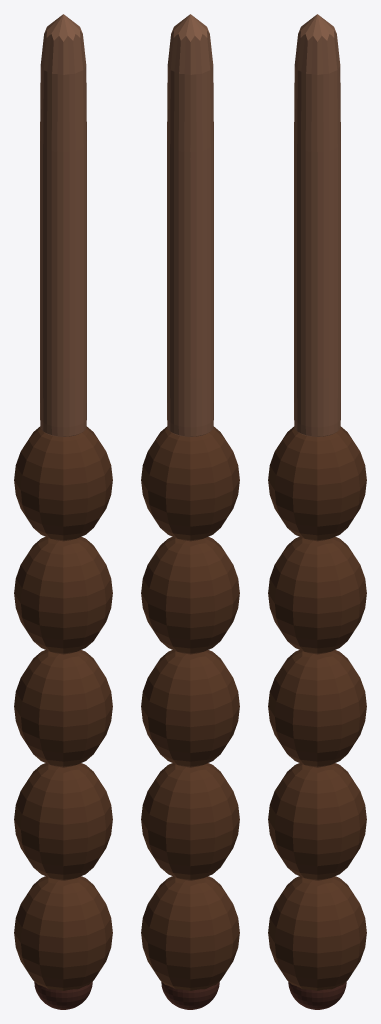
File: Wand 213.glb
3 renders of one model, left to right at view 1: azimuth 30°, elevation 25°; view 2: azimuth 210°, elevation 25°; view 3: azimuth 270°, elevation 25°, orthographic.
Parts seen in each view (by area): view 1: GeneratedWand; view 2: GeneratedWand; view 3: GeneratedWand.
Boxes of the visible parts, x1,y1,x2,y2 form: GeneratedWand: (14, 14, 112, 1009); GeneratedWand: (141, 14, 239, 1009); GeneratedWand: (268, 14, 366, 1009).
Bounding box in the file's own units: 0.0447 × 0.4978 × 0.0449.
